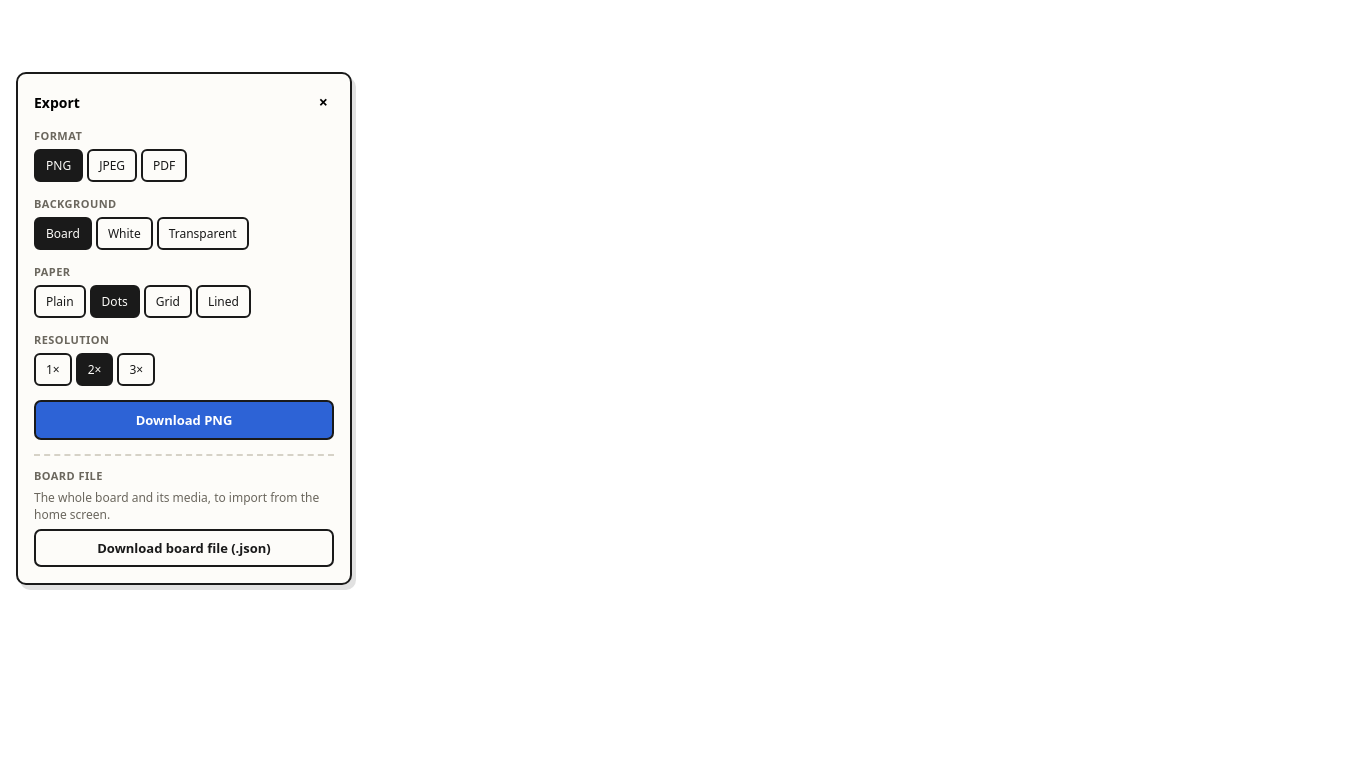
Test: ExportDialog › shows why a board file could not be made
Click the button with test id "export-board-file".
click(184, 548)  # box [34,529,334,567]
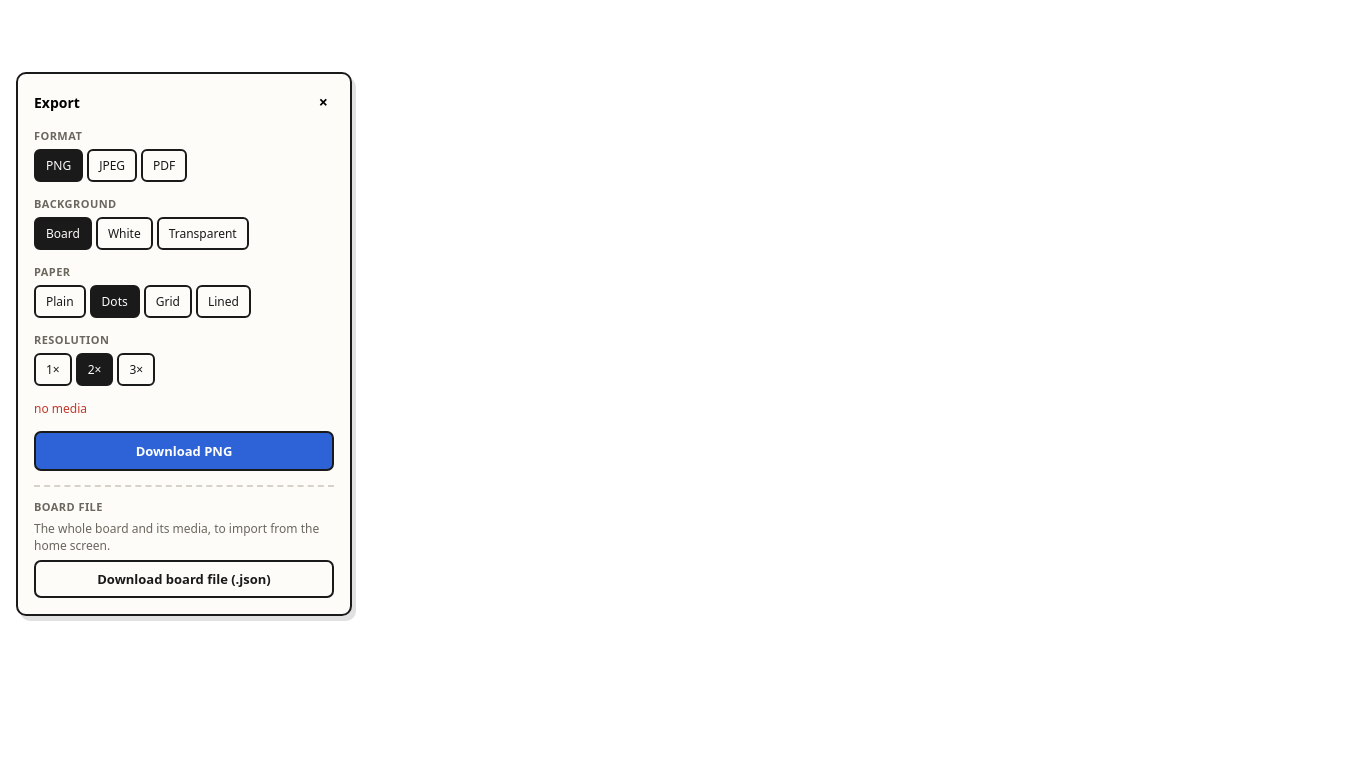
Check: the message with test id "export-error" reads "no media", box [34,400,87,417]
